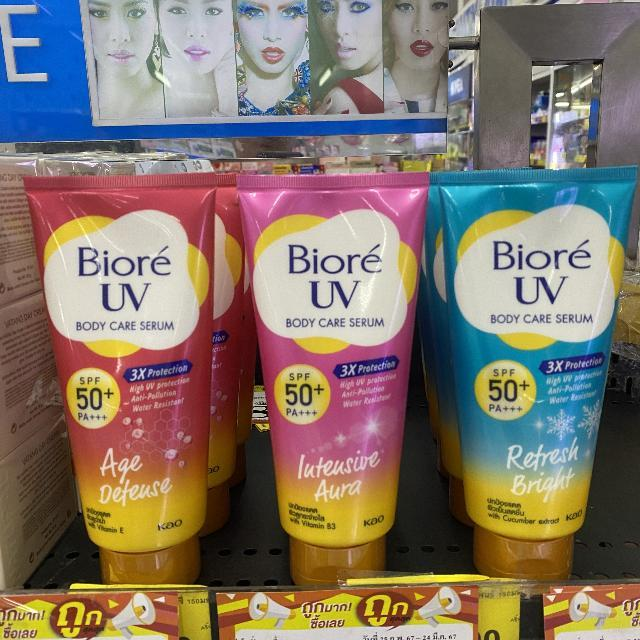Squeeze Tube: (418, 140, 640, 602), (14, 157, 235, 608), (225, 151, 430, 620)
